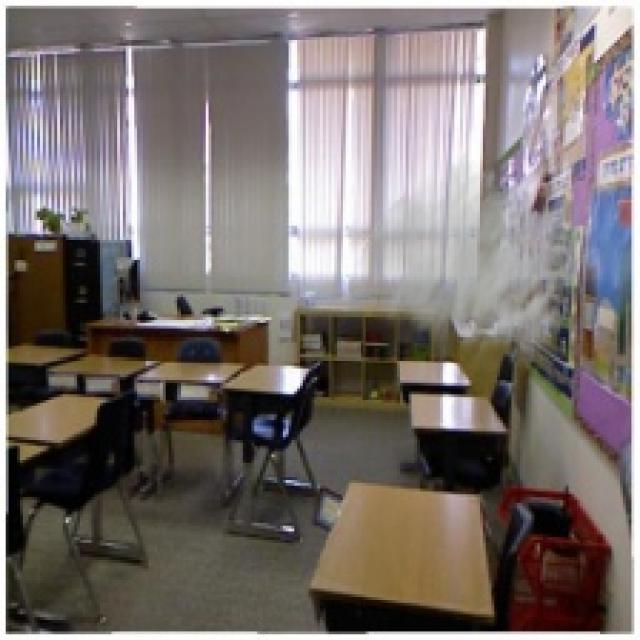smoke: (351, 152, 603, 397)
